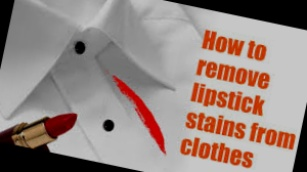lipstick: (128, 104, 178, 154), (104, 74, 148, 114)
